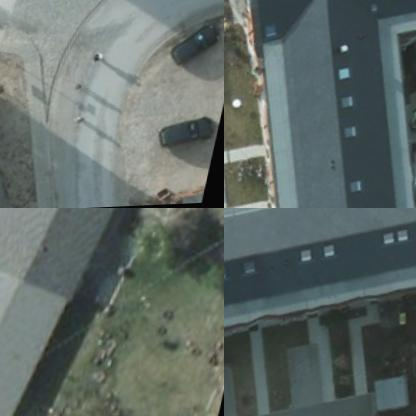car: (154, 114, 218, 156), (173, 25, 222, 71)
